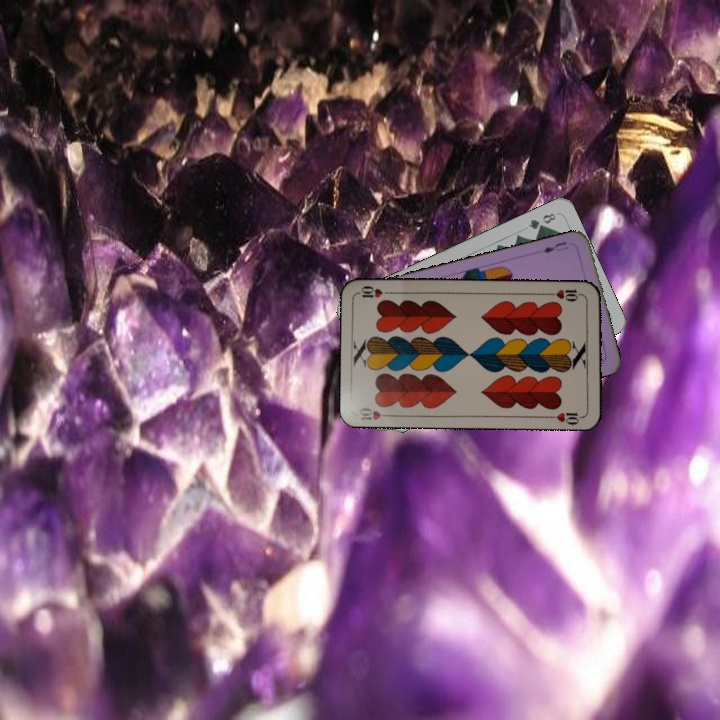EU: (538, 237, 571, 256)
G8: (524, 209, 558, 232)
H10: (545, 285, 585, 304), (355, 403, 395, 422)
